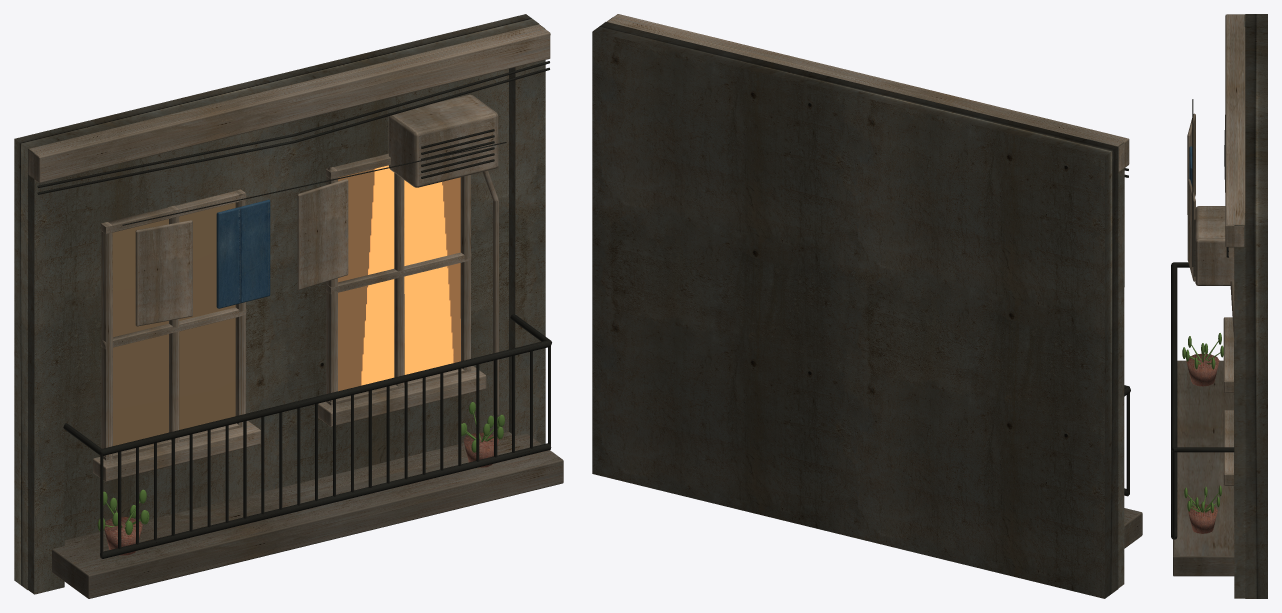
Rendered from mat_tien_tang_04.glb.
3 renders of one model, left to right at view 1: azimuth 30°, elevation 25°; view 2: azimuth 150°, elevation 25°; view 3: azimuth 270°, elevation 25°, orthographic. The views are drawn at different scales.
Parts seen in each view (by area): view 1: mat_tien_tang_04.001; view 2: mat_tien_tang_04.001; view 3: mat_tien_tang_04.001.
Part boxes in pixels (x1=…): mat_tien_tang_04.001: x1=14, y1=14, x2=563, y2=598; mat_tien_tang_04.001: x1=592, y1=14, x2=1142, y2=598; mat_tien_tang_04.001: x1=1171, y1=14, x2=1267, y2=598.
Bounding box in the file's own units: 4 × 3.3 × 0.775.
3 materials, 2 textured.
